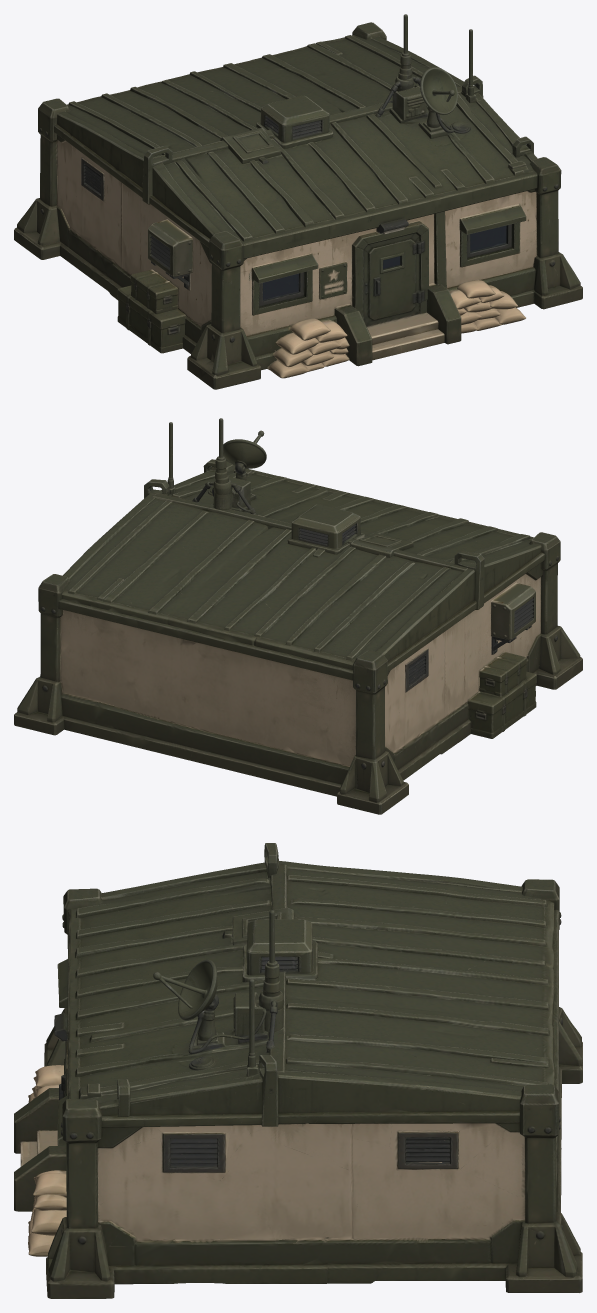
The model's file is kommandobunker_original.glb.
3 views of the same model, one above another, from view 1: azimuth 30°, elevation 25°; view 2: azimuth 150°, elevation 25°; view 3: azimuth 270°, elevation 25° (orthographic). The views are drawn at different scales.
Bounding box in the file's own units: 1.87 × 1.17 × 1.84.
1 material, 1 textured.
